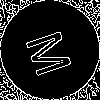M: (25, 25, 82, 79)
